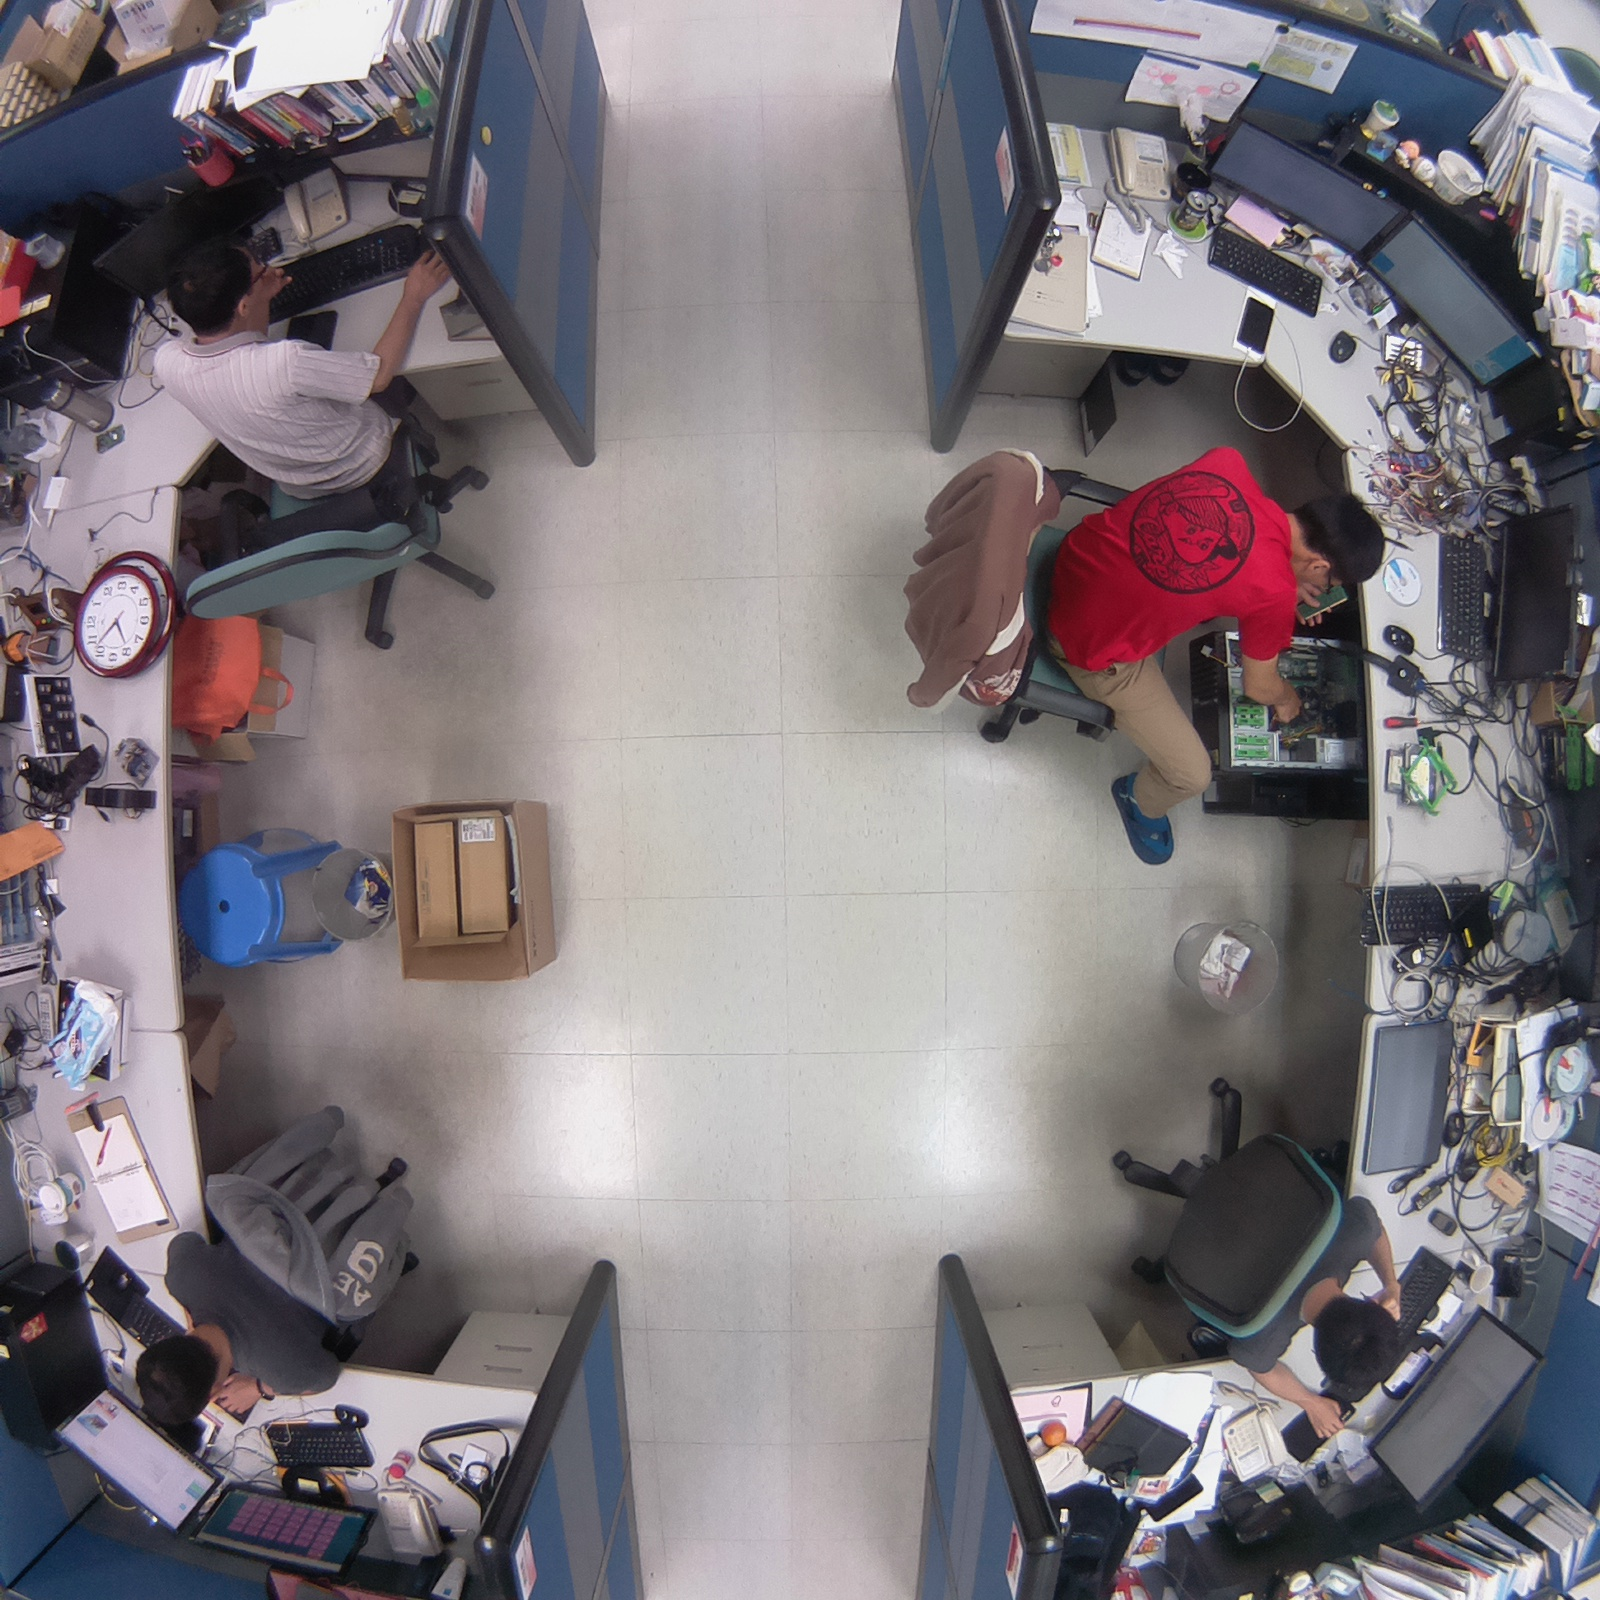head: (1290, 480, 1392, 600), (160, 235, 278, 329), (125, 1320, 223, 1433), (1309, 1290, 1407, 1398)
sitting: (881, 435, 1411, 881), (133, 226, 529, 670), (1094, 1068, 1422, 1449), (119, 1088, 432, 1435)
